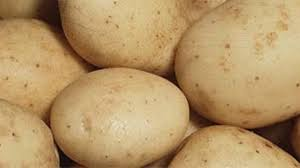potato: (49, 65, 189, 166)
